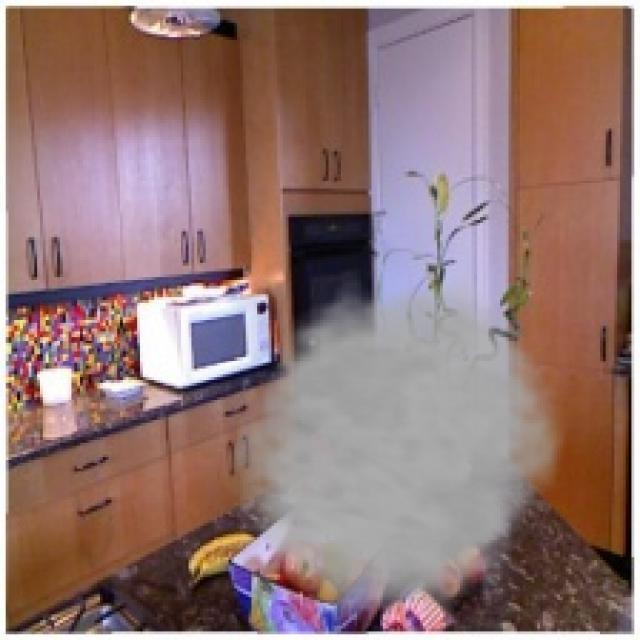Smoke: (215, 266, 574, 623)
